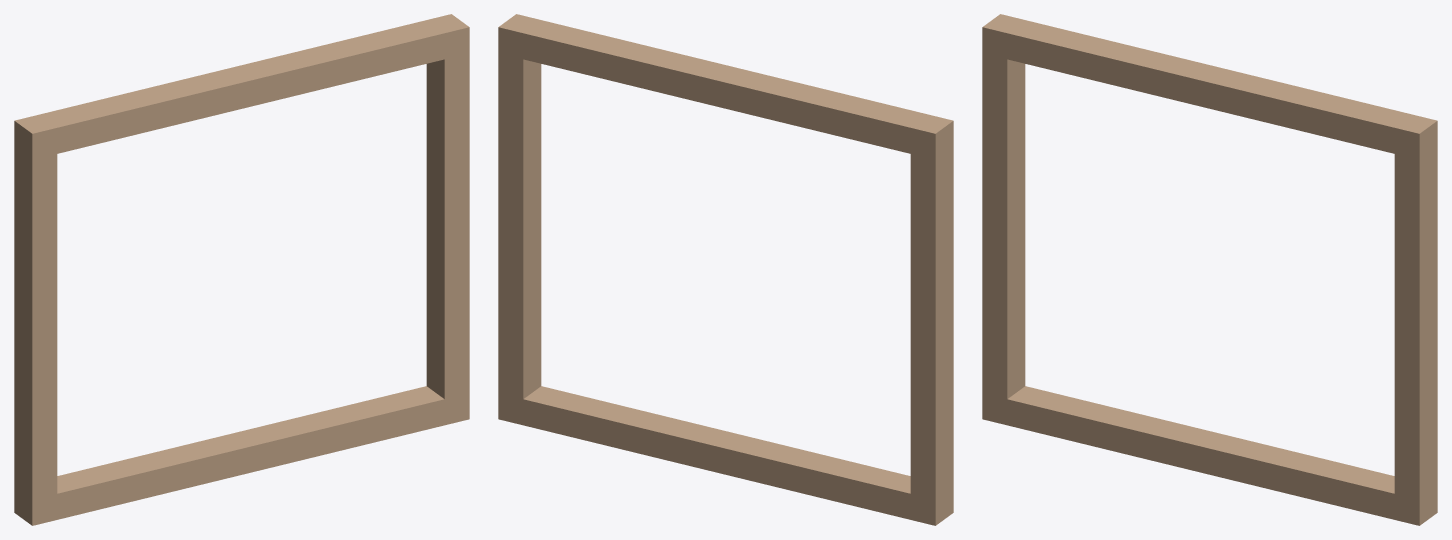
File: window-frame.glb
3 renders of one model, left to right at view 1: azimuth 30°, elevation 25°; view 2: azimuth 150°, elevation 25°; view 3: azimuth 330°, elevation 25°, orthographic.
Visible parts, largest first — view 1: top, bottom, left, right; view 2: top, bottom, left, right; view 3: top, bottom, right, left.
Boxes of the visible parts, bbox=[...] form: top: bbox=[16, 20, 469, 159]; bottom: bbox=[32, 386, 469, 525]; left: bbox=[14, 114, 57, 525]; right: bbox=[426, 14, 469, 424]; top: bbox=[498, 20, 953, 159]; bottom: bbox=[498, 386, 953, 525]; left: bbox=[910, 114, 953, 525]; right: bbox=[498, 14, 541, 425]; top: bbox=[982, 20, 1437, 159]; bottom: bbox=[982, 386, 1437, 525]; right: bbox=[1394, 114, 1437, 525]; left: bbox=[982, 14, 1025, 425].
Bounding box in the file's own units: 1.4 × 1.2 × 0.1.
